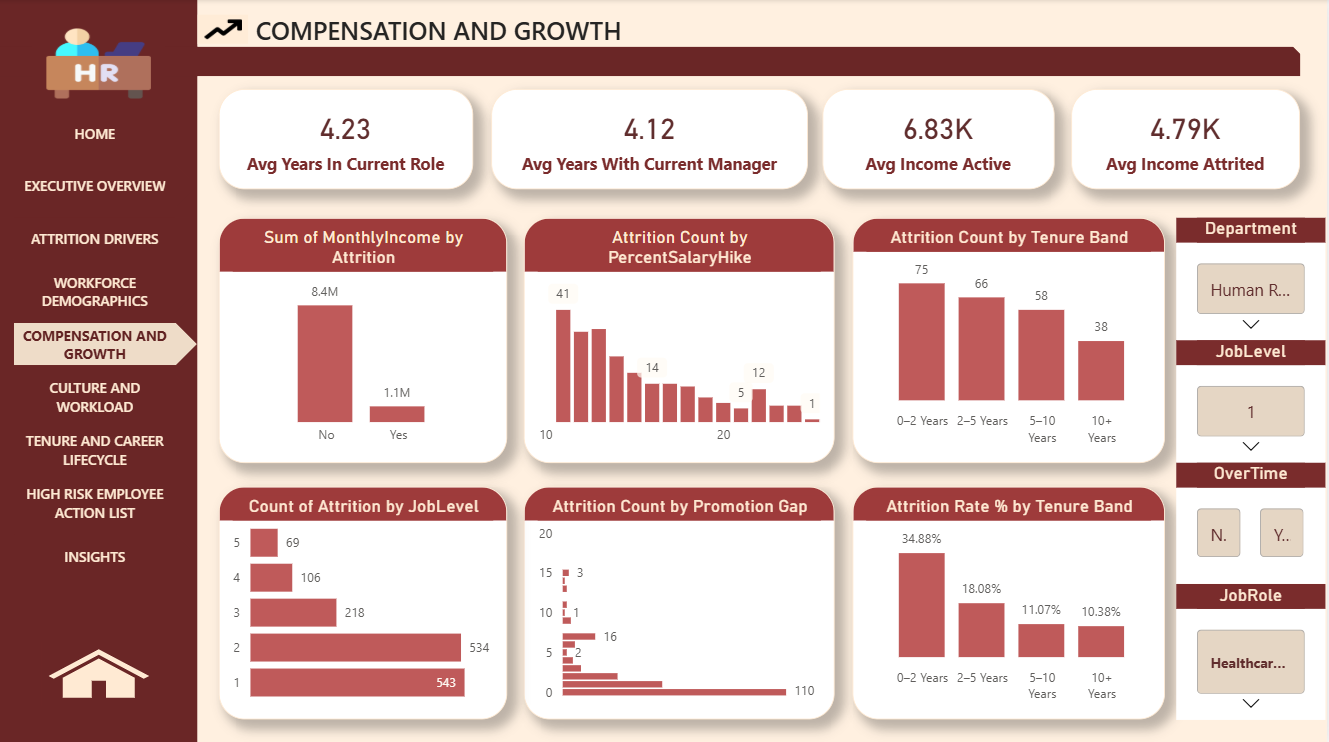

This screenshot's page, from the dashboard's own definition file:
{"tool":"powerbi","page":{"name":"COMPENSATION AND GROWTH","canvas":[1280,720],"ordinal":4},"visuals":[{"type":"columnChart","fields":{"Y":["Sum(Attrition.MonthlyIncome)"],"Category":["Attrition.Attrition"]},"box":[210.6,210.6,278.5,236.6],"z":0},{"type":"lineStackedColumnComboChart","fields":{"Y":["Attrition.Attrition Count"],"Category":["Attrition.PercentSalaryHike"]},"box":[505,210.6,300.1,236.6],"z":1000},{"type":"barChart","fields":{"Y":["Attrition.Attrition Count"],"Category":["Attrition.YearsSinceLastPromotion"]},"box":[505,470.3,300.1,225.1],"z":2000},{"type":"clusteredBarChart","fields":{"Category":["Attrition.JobLevel"],"Y":["CountNonNull(Attrition.Attrition)"]},"box":[210.6,470.3,278.5,225.1],"z":3000},{"type":"shape","box":[0,0,190.4,720.8],"z":4000},{"type":"shape","box":[0,46.2,1255.2,28.9],"z":5000},{"type":"textbox","box":[191.9,10.1,463.1,50.5],"z":6000},{"type":"columnChart","fields":{"Category":["Attrition.Tenure Band"],"Y":["Attrition.Attrition Count"]},"box":[822.4,210.6,301.5,236.6],"z":7000},{"type":"columnChart","fields":{"Category":["Attrition.Tenure Band"],"Y":["Attrition.Attrition Rate %"]},"box":[822.4,470.3,301.5,225.1],"z":8000},{"type":"card","fields":{"Values":["Avg(Attrition.YearsInCurrentRole)"]},"box":[210.6,86.6,245.3,96.7],"z":9000},{"type":"card","fields":{"Values":["Avg(Attrition.YearsWithCurrManager)"]},"box":[474.7,86.6,305.9,96.7],"z":10000},{"type":"card","fields":{"Values":["Attrition.Avg Income Active"]},"box":[793.5,86.6,223.6,96.7],"z":11000},{"type":"card","fields":{"Values":["Attrition.Avg Income Attrited"]},"box":[1034.5,86.6,220.7,96.7],"z":12000},{"type":"advancedSlicerVisual","fields":{"Values":["Attrition.Department"]},"box":[1135.5,210.6,144.3,118.3],"z":13000},{"type":"advancedSlicerVisual","fields":{"Values":["Attrition.JobLevel"]},"box":[1135.5,328.9,144.3,118.3],"z":14000},{"type":"advancedSlicerVisual","fields":{"Values":["Attrition.OverTime"]},"box":[1135.5,447.3,144.3,116.9],"z":15000},{"type":"advancedSlicerVisual","fields":{"Values":["Attrition.JobRole"]},"box":[1135.5,564.1,144.3,131.3],"z":16000},{"type":"pageNavigator","box":[13,108.2,177.5,455.9],"z":18000},{"type":"image","box":[27.4,26,134.2,72.1],"z":18001},{"type":"image","box":[190.4,10.1,49.1,39],"z":18002},{"type":"image","box":[40.4,618.9,111.1,63.5],"z":18003}]}

Visuals, with their boxes on the page's 1280x720 design canvas (x1, y1, x2, y2). These are canvas units, not pixel positions in the 1329x742 screenshot, which may show the page scaled, cropped or inside an application window:
columnChart - Sum(Attrition.MonthlyIncome) x Attrition.Attrition: (x1=211, y1=211, x2=489, y2=447)
lineStackedColumnComboChart - Attrition.Attrition Count x Attrition.PercentSalaryHike: (x1=505, y1=211, x2=805, y2=447)
barChart - Attrition.Attrition Count x Attrition.YearsSinceLastPromotion: (x1=505, y1=470, x2=805, y2=695)
clusteredBarChart - Attrition.JobLevel x CountNonNull(Attrition.Attrition): (x1=211, y1=470, x2=489, y2=695)
shape: (x1=0, y1=0, x2=190, y2=721)
shape: (x1=0, y1=46, x2=1255, y2=75)
textbox: (x1=192, y1=10, x2=655, y2=61)
columnChart - Attrition.Tenure Band x Attrition.Attrition Count: (x1=822, y1=211, x2=1124, y2=447)
columnChart - Attrition.Tenure Band x Attrition.Attrition Rate %: (x1=822, y1=470, x2=1124, y2=695)
card - Avg(Attrition.YearsInCurrentRole): (x1=211, y1=87, x2=456, y2=183)
card - Avg(Attrition.YearsWithCurrManager): (x1=475, y1=87, x2=781, y2=183)
card - Attrition.Avg Income Active: (x1=794, y1=87, x2=1017, y2=183)
card - Attrition.Avg Income Attrited: (x1=1034, y1=87, x2=1255, y2=183)
advancedSlicerVisual - Attrition.Department: (x1=1136, y1=211, x2=1280, y2=329)
advancedSlicerVisual - Attrition.JobLevel: (x1=1136, y1=329, x2=1280, y2=447)
advancedSlicerVisual - Attrition.OverTime: (x1=1136, y1=447, x2=1280, y2=564)
advancedSlicerVisual - Attrition.JobRole: (x1=1136, y1=564, x2=1280, y2=695)
pageNavigator: (x1=13, y1=108, x2=190, y2=564)
image: (x1=27, y1=26, x2=162, y2=98)
image: (x1=190, y1=10, x2=240, y2=49)
image: (x1=40, y1=619, x2=152, y2=682)
